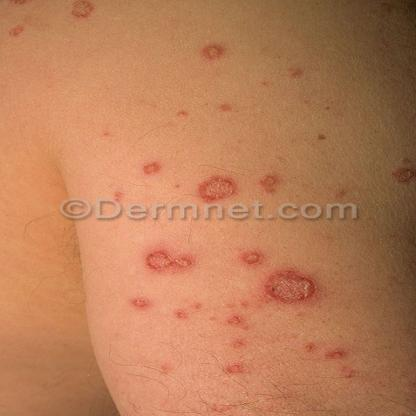Eczema: (126, 236, 350, 360), (52, 0, 115, 32), (192, 178, 248, 209), (392, 143, 416, 192), (194, 42, 232, 64)
